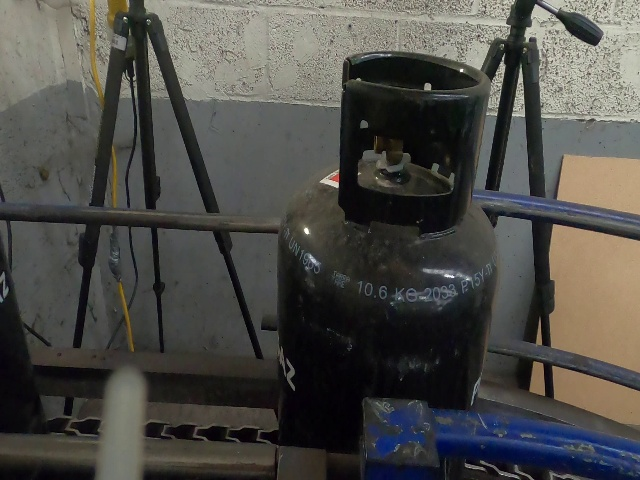gas_bottle: (0, 0, 617, 469)
